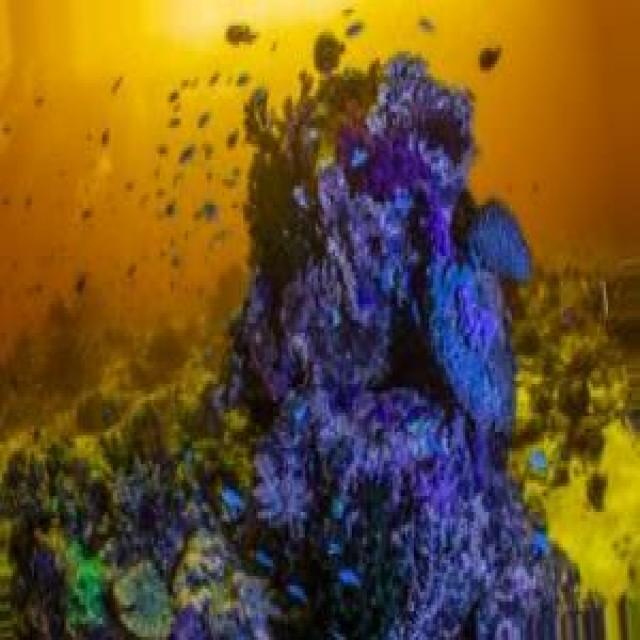Healthy: (244, 68, 551, 640), (7, 347, 268, 640)
